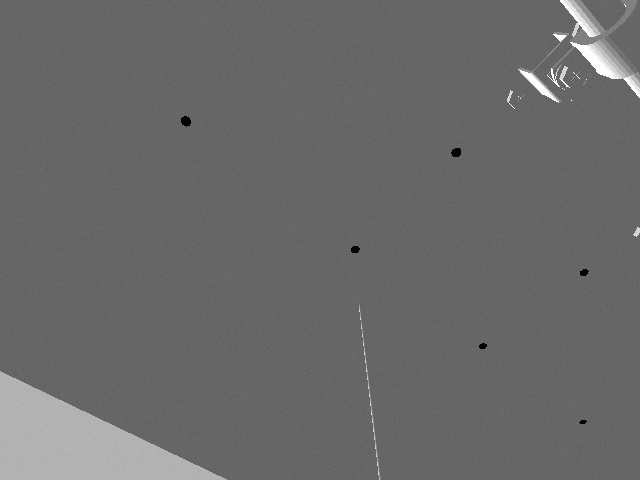hole: (179, 114, 193, 129), (449, 146, 463, 159), (349, 244, 362, 255), (578, 267, 591, 278), (477, 341, 489, 351), (577, 418, 589, 426)
